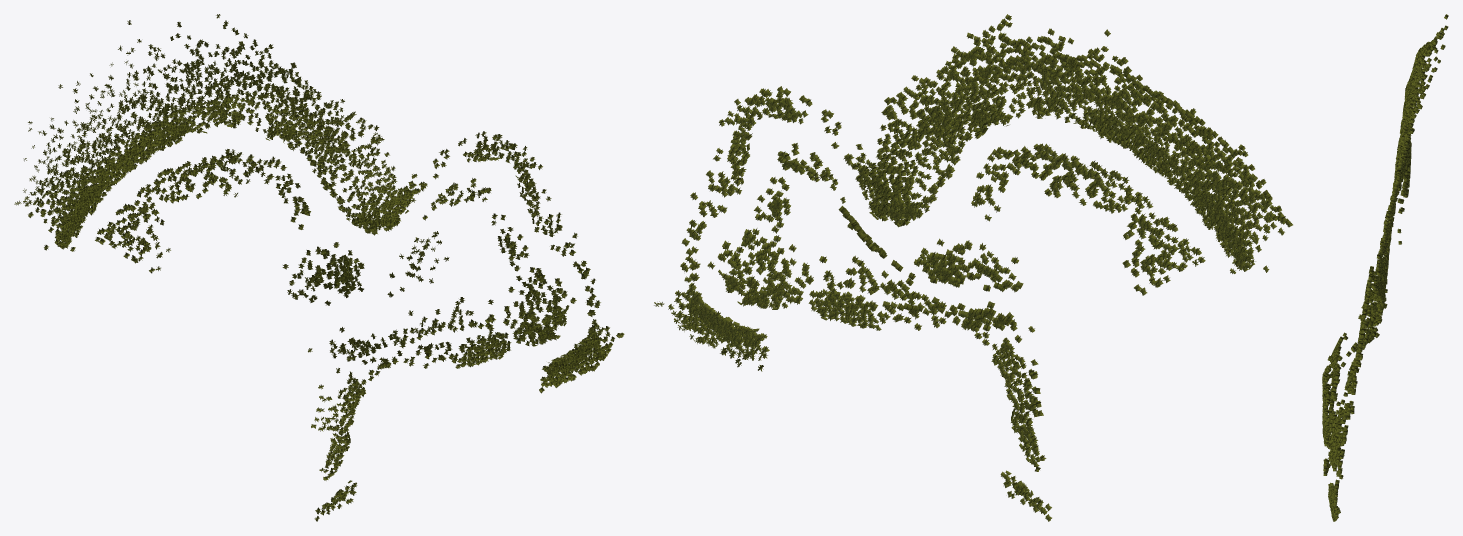
The picture shows the model from 3 angles, left to right: view 1: azimuth 30°, elevation 25°; view 2: azimuth 150°, elevation 25°; view 3: azimuth 270°, elevation 25°; orthographic projection. The views are drawn at different scales.
Bounding box in the file's own units: 269 × 218 × 61.3.
Materials: 1 (1 with a texture image).
